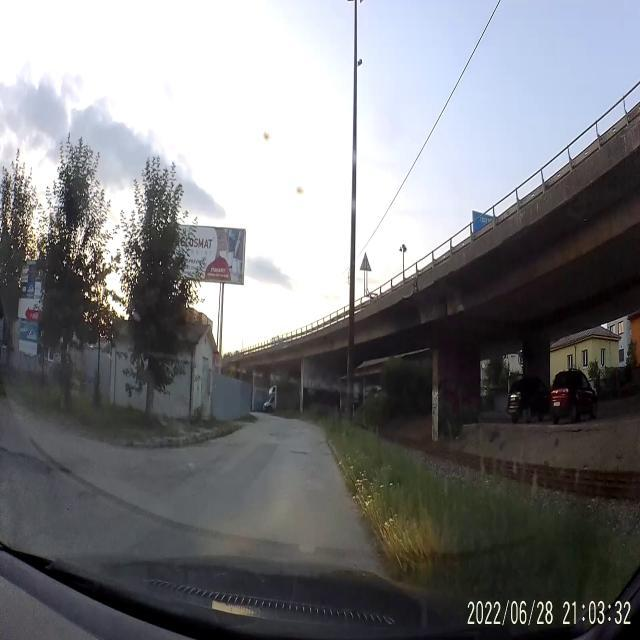Pothole: (288, 448, 314, 460)
